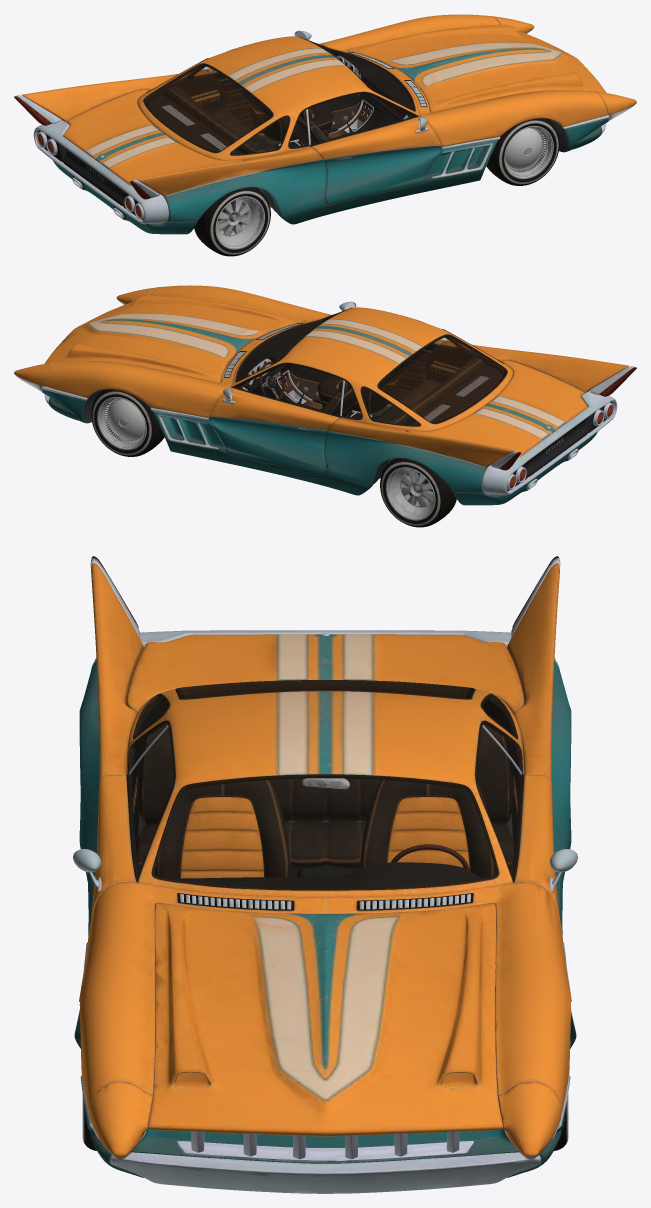
The model's file is Car1.glb.
The picture shows the model from 3 angles, top to bottom: view 1: azimuth 30°, elevation 25°; view 2: azimuth 150°, elevation 25°; view 3: azimuth 270°, elevation 25°; orthographic projection. The views are drawn at different scales.
Visible parts, largest first — view 1: car_body_body_one_mat_0, car_body_body_two_mat_0, car_body_glass_mat_0, car_body_wheels_mat_0, car_body_interior_one_mat_0, car_body_interior_two_mat_0, car_body_details_mat_0; view 2: car_body_body_one_mat_0, car_body_body_two_mat_0, car_body_glass_mat_0, car_body_wheels_mat_0, car_body_interior_one_mat_0, car_body_interior_two_mat_0, car_body_details_mat_0; view 3: car_body_body_one_mat_0, car_body_body_two_mat_0, car_body_glass_mat_0, car_body_interior_two_mat_0, car_body_details_mat_0, car_body_interior_one_mat_0.
Part boxes in pixels (<box>): car_body_body_one_mat_0: <box>22,14,636,224</box>; car_body_body_two_mat_0: <box>16,36,606,234</box>; car_body_glass_mat_0: <box>14,29,634,217</box>; car_body_wheels_mat_0: <box>194,118,559,256</box>; car_body_interior_one_mat_0: <box>147,51,415,154</box>; car_body_interior_two_mat_0: <box>165,86,357,153</box>; car_body_details_mat_0: <box>72,30,610,229</box>; car_body_body_one_mat_0: <box>14,285,628,495</box>; car_body_body_two_mat_0: <box>44,307,634,505</box>; car_body_glass_mat_0: <box>16,300,636,488</box>; car_body_wheels_mat_0: <box>91,389,456,527</box>; car_body_interior_one_mat_0: <box>235,322,503,425</box>; car_body_interior_two_mat_0: <box>293,357,485,424</box>; car_body_details_mat_0: <box>40,301,578,500</box>; car_body_body_one_mat_0: <box>74,563,576,1177</box>; car_body_body_two_mat_0: <box>90,558,560,1193</box>; car_body_glass_mat_0: <box>91,556,559,1159</box>; car_body_interior_two_mat_0: <box>136,724,514,878</box>; car_body_details_mat_0: <box>73,633,577,1140</box>; car_body_interior_one_mat_0: <box>129,715,521,973</box>.
Size of the model in its own units: 4.58 by 1.06 by 1.95.
8 materials, 8 textured.
